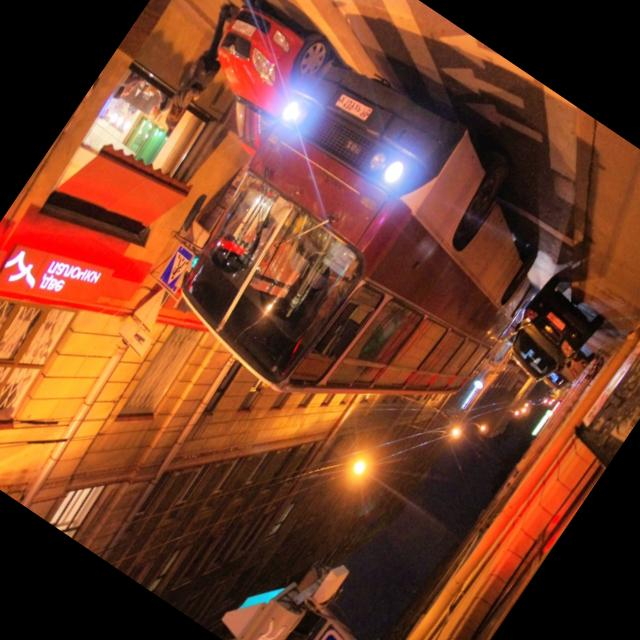bus: (145, 28, 596, 484)
